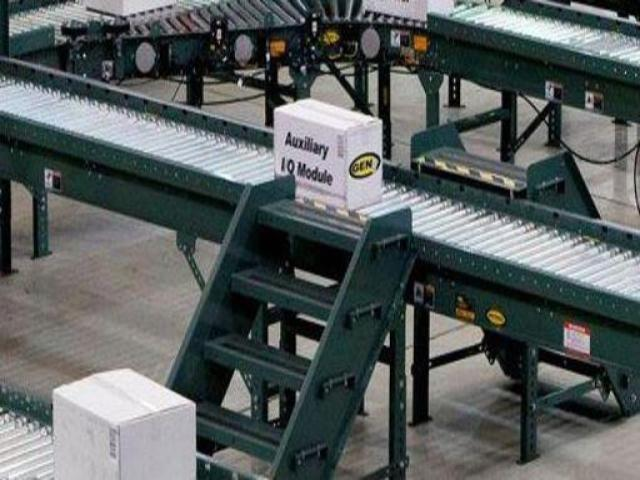conveyor: (0, 51, 640, 372)
